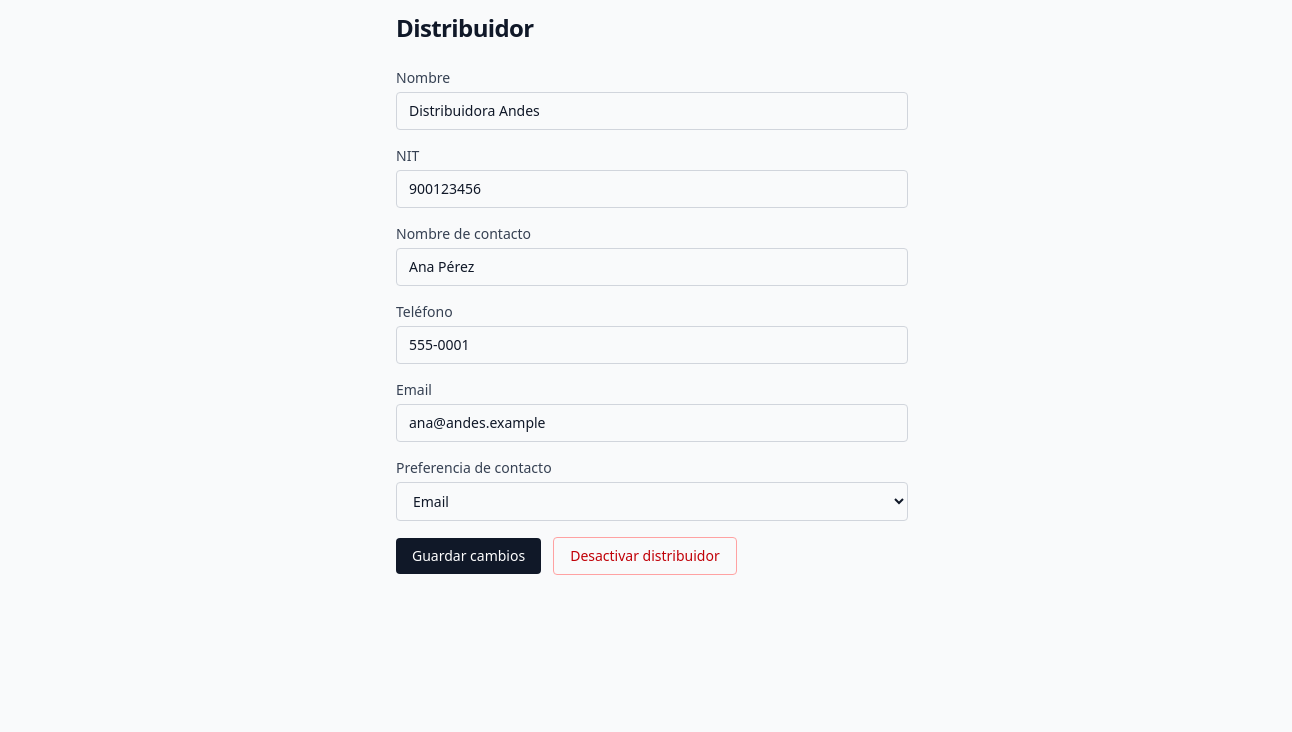
DistributorFormPage (DIST-1 · §S2 fila Distributor form) › admin: desactivar solo hace soft-delete (C0.2) — nunca borra la fila
The width and height of the screenshot is (1292, 732).
What coordinates should you click on to do the following:
click the button "Desactivar distribuidor"
I would click on:
 (645, 556)
Its box is [553, 537, 737, 575].
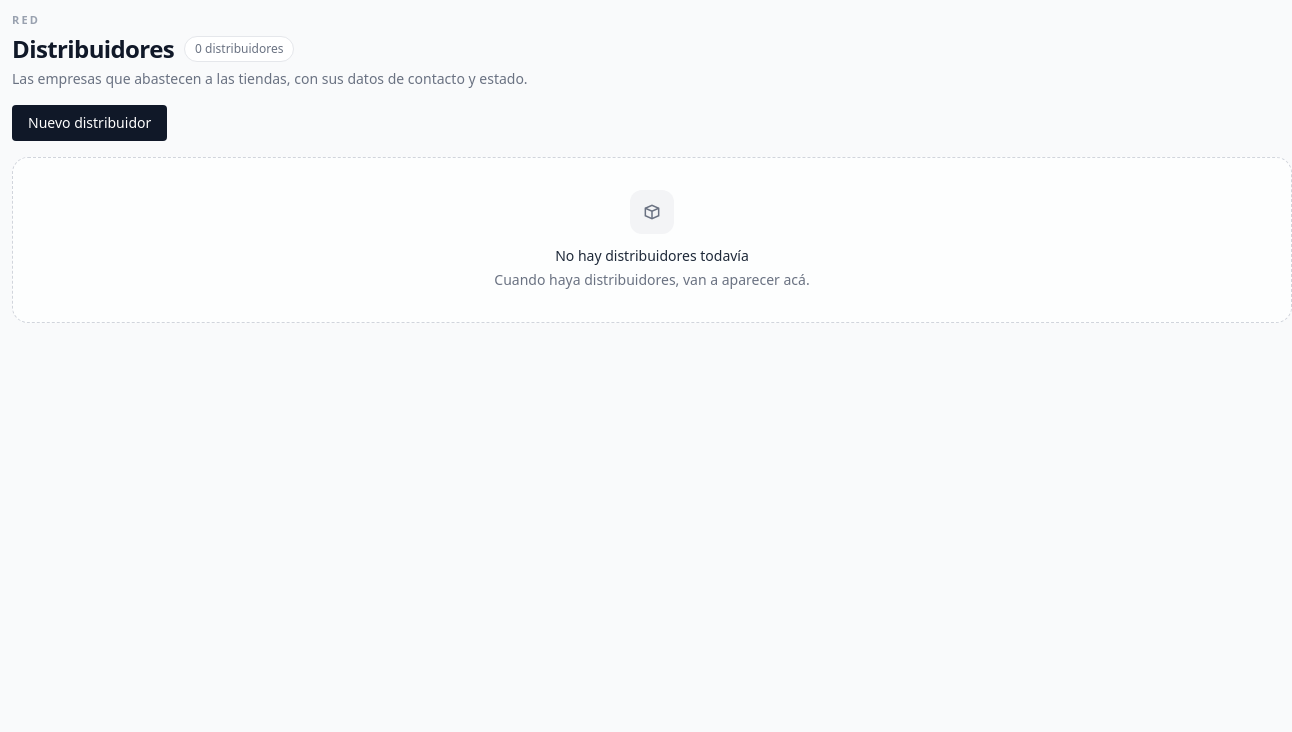
Expected: the heading "Distribuidores" is shown, [12, 32, 174, 64]
